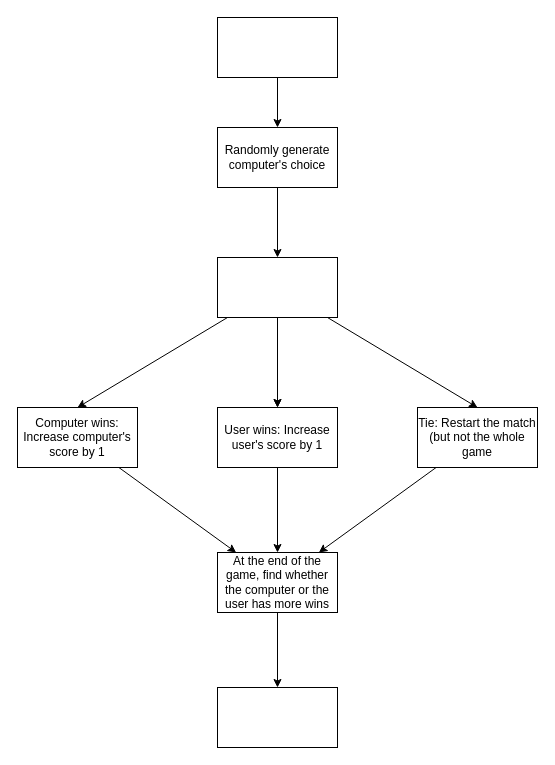
Image size: 555x765. Some labels were removed from this diagram. The centre of each missing label's shape, as x and y in pixels:
"Compare computer's choice with the user's choice to decide who wins" belongs at (277,287).
"Get input from user" belongs at (277,47).
"Inform user that they have won or lost" belongs at (277,717).
